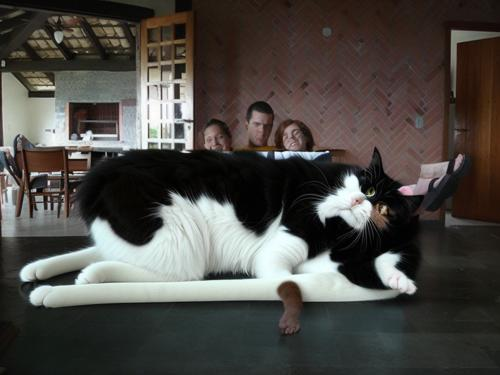cat: (14, 149, 422, 308)
person: (153, 101, 348, 334), (1, 121, 238, 224), (277, 120, 473, 223)
person/foot: (13, 132, 45, 166), (4, 148, 38, 176), (320, 197, 356, 218), (432, 154, 464, 177), (278, 303, 301, 334), (417, 177, 444, 196)
person/hand: (151, 186, 172, 216), (308, 180, 328, 196), (175, 210, 196, 225), (330, 156, 347, 174), (160, 174, 177, 188)
person/head: (201, 117, 232, 159), (245, 102, 274, 144), (280, 120, 308, 153)
